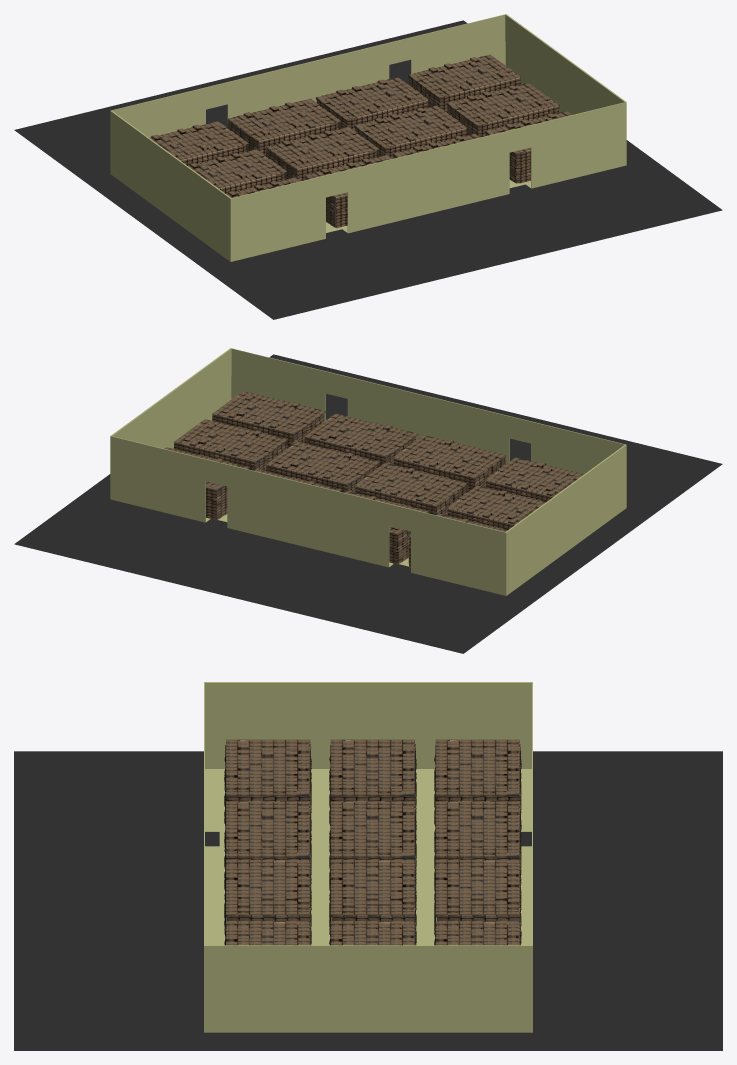
Rendered from WareHouse_Structure_DAE6.fbx.
3 views of the same model, one above another, from view 1: azimuth 30°, elevation 25°; view 2: azimuth 150°, elevation 25°; view 3: azimuth 270°, elevation 25° (orthographic). The views are drawn at different scales.
Visible parts, largest first — view 1: Cube.012, Plane, Side_View_of_Stack.002; view 2: Cube.012, Plane, Side_View_of_Stack.002; view 3: Plane, Cube.012, Side_View_of_Stack.002.
Part boxes in pixels (x1=…): Cube.012: x1=110, y1=14, x2=626, y2=261; Plane: x1=14, y1=20, x2=722, y2=319; Side_View_of_Stack.002: x1=150, y1=54, x2=572, y2=228; Cube.012: x1=110, y1=348, x2=626, y2=595; Plane: x1=14, y1=354, x2=722, y2=653; Side_View_of_Stack.002: x1=164, y1=391, x2=583, y2=567; Plane: x1=14, y1=751, x2=722, y2=1050; Cube.012: x1=204, y1=682, x2=532, y2=1032; Side_View_of_Stack.002: x1=224, y1=739, x2=521, y2=945.
Size of the model in its own units: 4787 by 649 by 4787.
